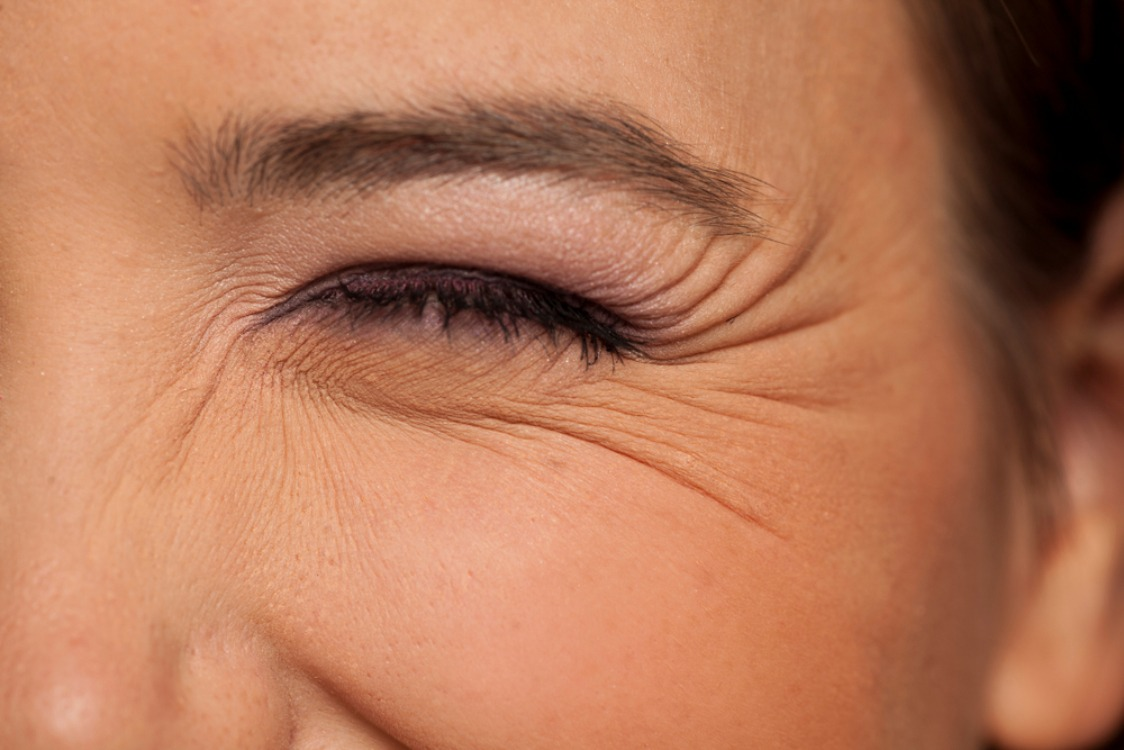Kerutan: (256, 331, 883, 555), (634, 93, 913, 415)
